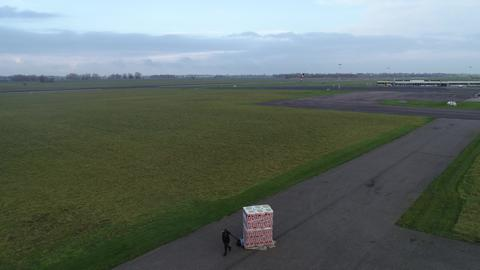RockwoolPallet: (241, 205, 273, 244)
